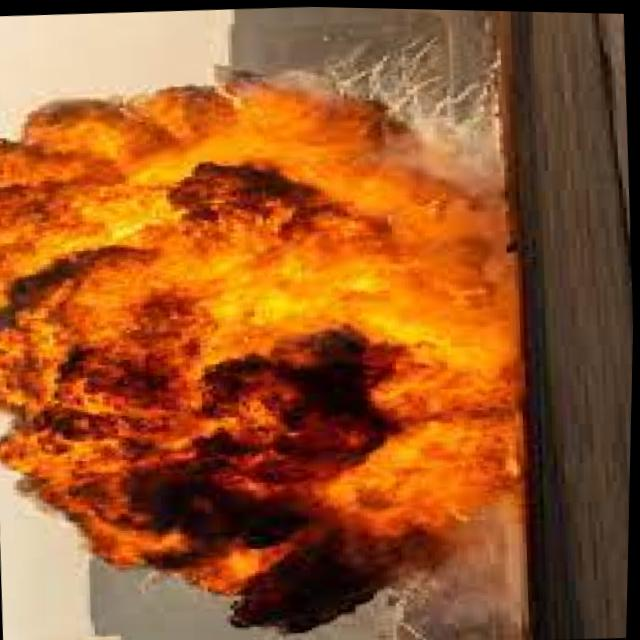Fire: (0, 46, 525, 567)
